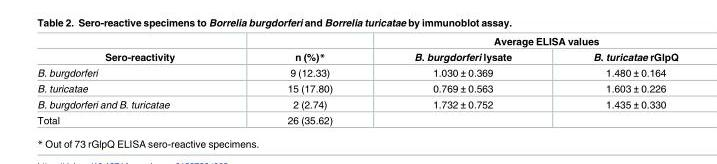table: (36, 36, 677, 125)
table column: (36, 36, 230, 125), (372, 36, 551, 125), (230, 36, 372, 125), (551, 36, 677, 125)
table column header: (36, 36, 677, 64)
table row: (36, 48, 677, 64), (36, 64, 677, 80), (36, 80, 677, 96), (36, 96, 677, 112), (36, 112, 677, 125), (36, 36, 677, 48)
table spanning cell: (36, 36, 230, 64), (230, 36, 372, 64), (372, 36, 677, 48)
